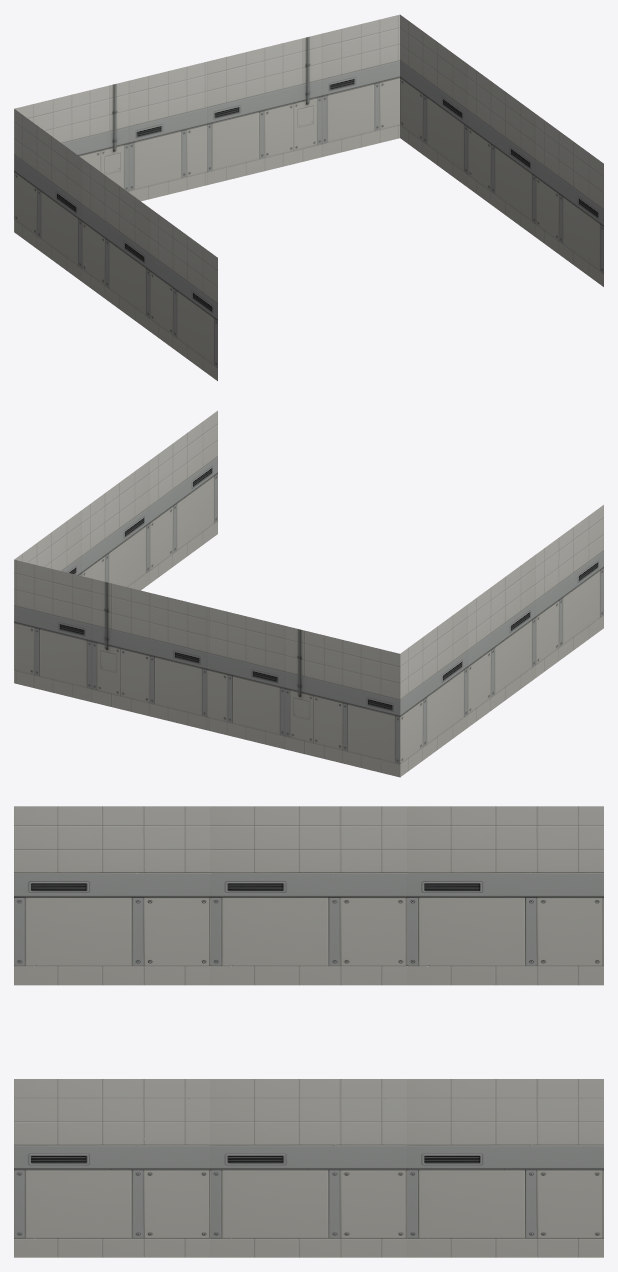
The model's file is lab.glb.
The picture shows the model from 3 angles, top to bottom: view 1: azimuth 30°, elevation 25°; view 2: azimuth 150°, elevation 25°; view 3: azimuth 270°, elevation 25°; orthographic projection. The views are drawn at different scales.
Visible parts, largest first — view 1: Plane; view 2: Plane; view 3: Plane.
Part boxes in pixels (bbox=[...]): Plane: bbox=[14, 14, 603, 380]; Plane: bbox=[14, 410, 603, 777]; Plane: bbox=[14, 806, 603, 1257].
Bounding box in the file's own units: 6.54 × 2 × 5.98.
Materials: 1 (1 with a texture image).
